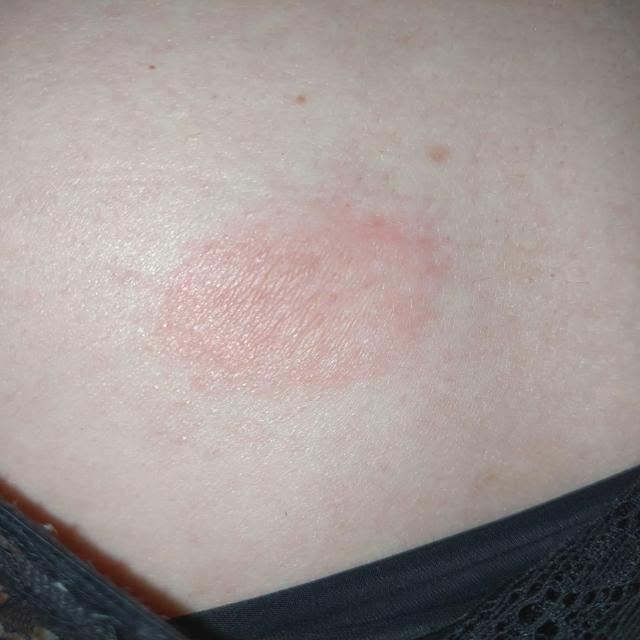Rosacea: (157, 192, 443, 396)
